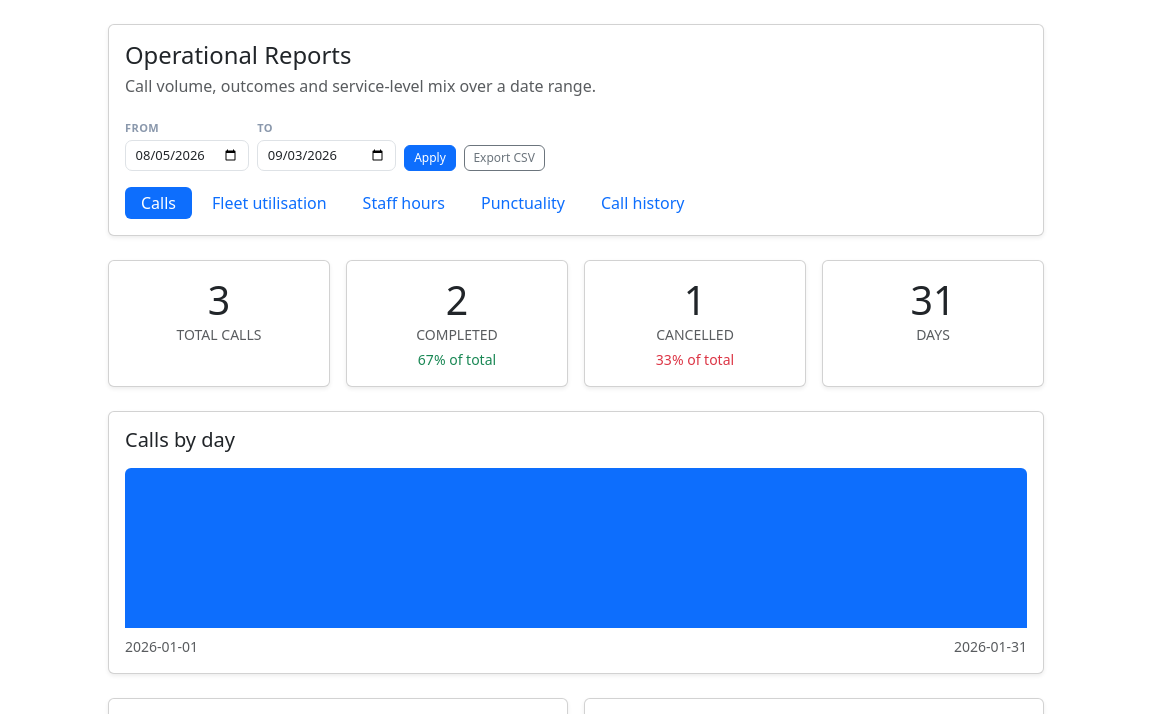
Scenario: ReportsPage › offers no CSV export on the utilisation tab
The image size is (1152, 714).
expect the text "Total calls" is shown: met, box [176, 325, 261, 344]
Click the button "Fleet utilisation": (269, 203) [196, 187, 343, 219]
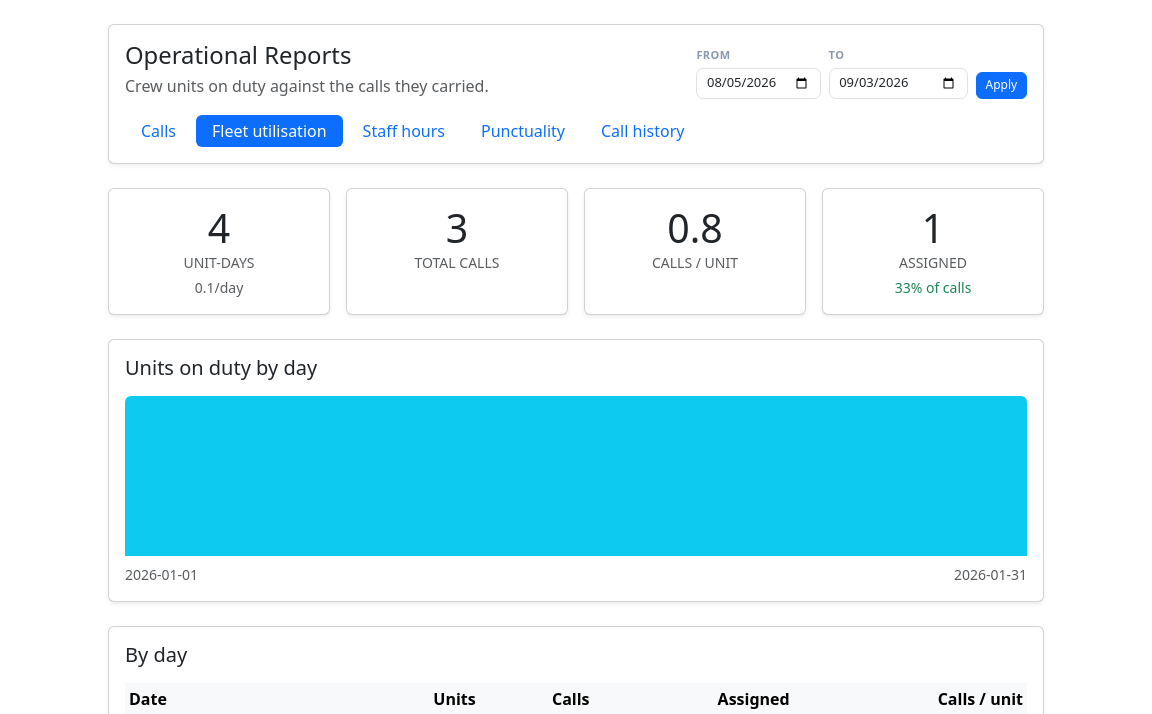
expect the text "Unit-days" is shown: met, box [184, 253, 254, 272]
expect the link "Export CSV" is gone: met
